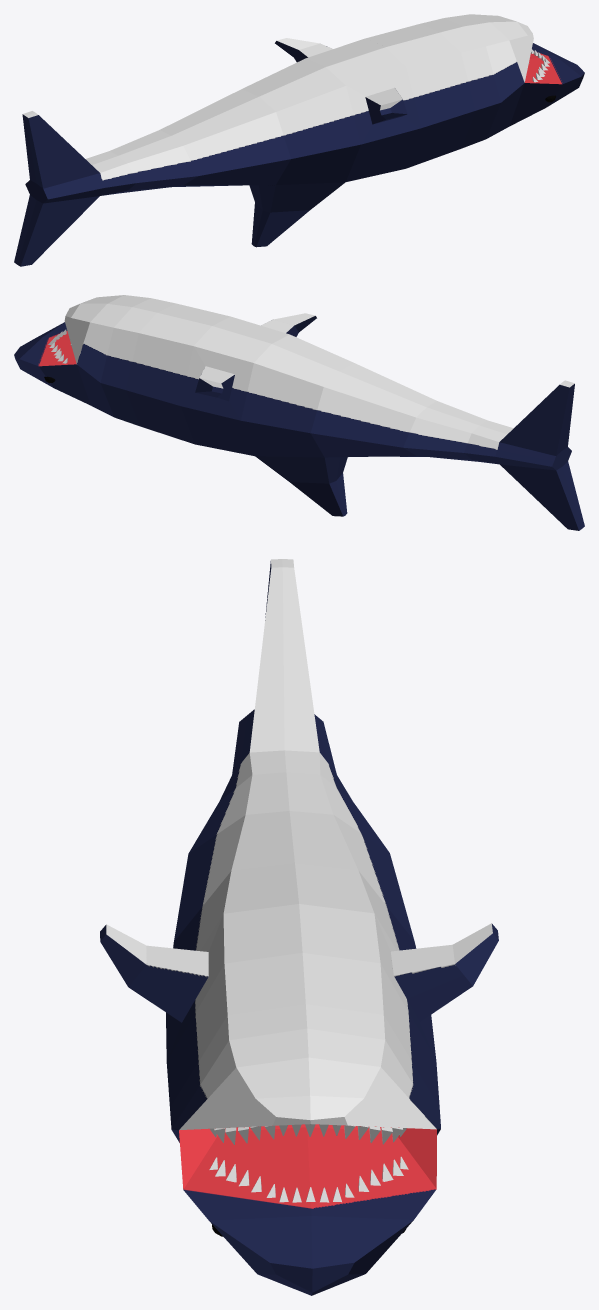
Rendered from shark.glb.
The picture shows the model from 3 angles, top to bottom: view 1: azimuth 30°, elevation 25°; view 2: azimuth 150°, elevation 25°; view 3: azimuth 270°, elevation 25°; orthographic projection. The views are drawn at different scales.
Parts seen in each view (by area): view 1: Object_2; view 2: Object_2; view 3: Object_2.
Part boxes in pixels (bbox=[...]): Object_2: bbox=[14, 14, 584, 266]; Object_2: bbox=[14, 295, 584, 530]; Object_2: bbox=[100, 559, 498, 1295].
Bounding box in the file's own units: 3.8 × 1.22 × 1.18.
1 material, 1 textured.
